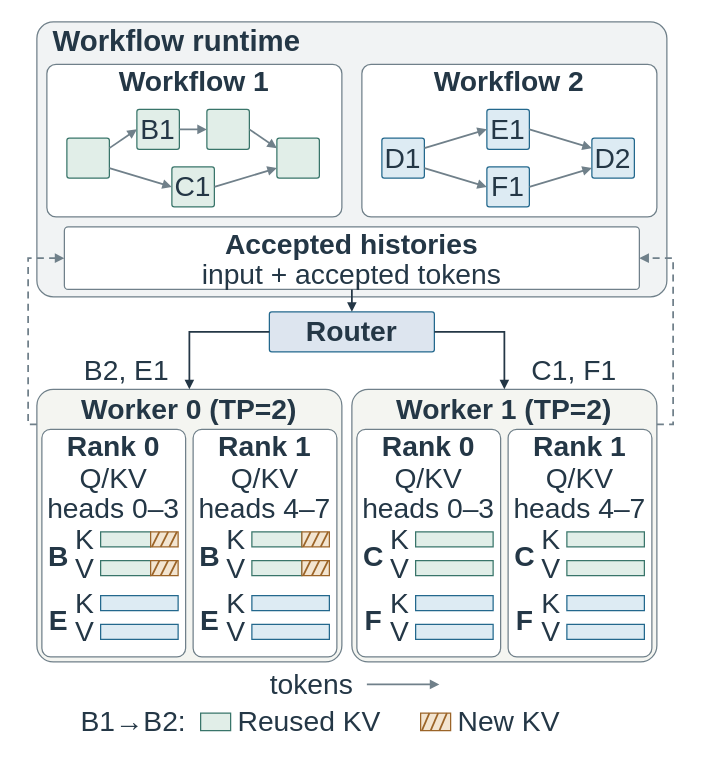
Some shapes in this 704 by 764 pixel diagram are drawn without their labels. Each missing label, with the box of its shape:
A1: (66, 137, 109, 178)
A2: (276, 137, 319, 178)
B2: (206, 108, 249, 149)
